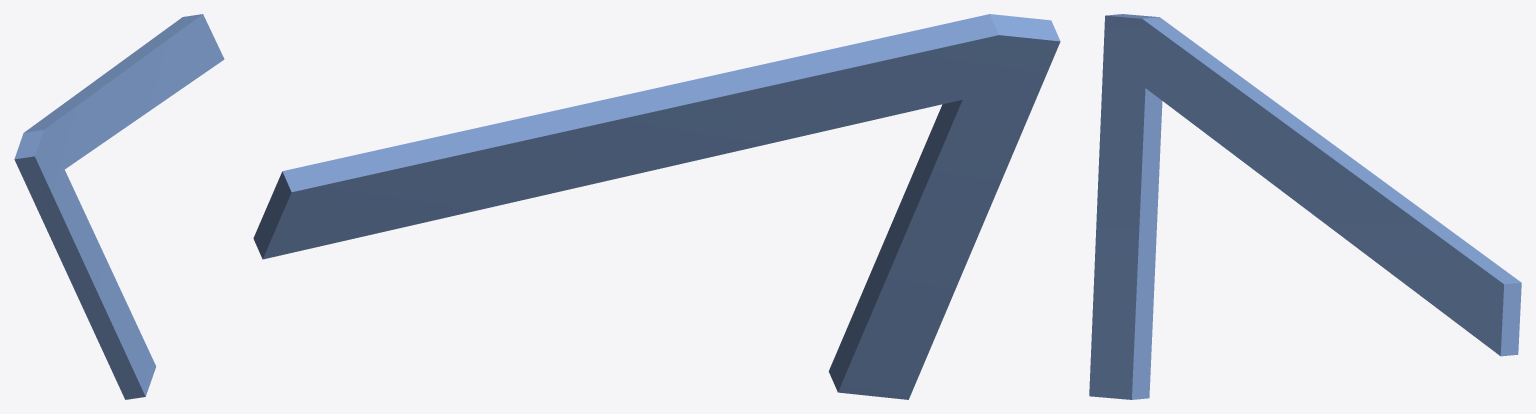
Rendered from New_Number_7.gltf.
3 renders of one model, left to right at view 1: azimuth 30°, elevation 25°; view 2: azimuth 150°, elevation 25°; view 3: azimuth 270°, elevation 25°, orthographic. The views are drawn at different scales.
Parts seen in each view (by area): view 1: Part 223; view 2: Part 223; view 3: Part 223.
Boxes of the visible parts, <box> form: Part 223: <box>14,14,224,399</box>; Part 223: <box>253,14,1060,399</box>; Part 223: <box>1089,14,1521,399</box>.
Size of the model in its own units: 0.00494 by 0.00357 by 0.00416.
